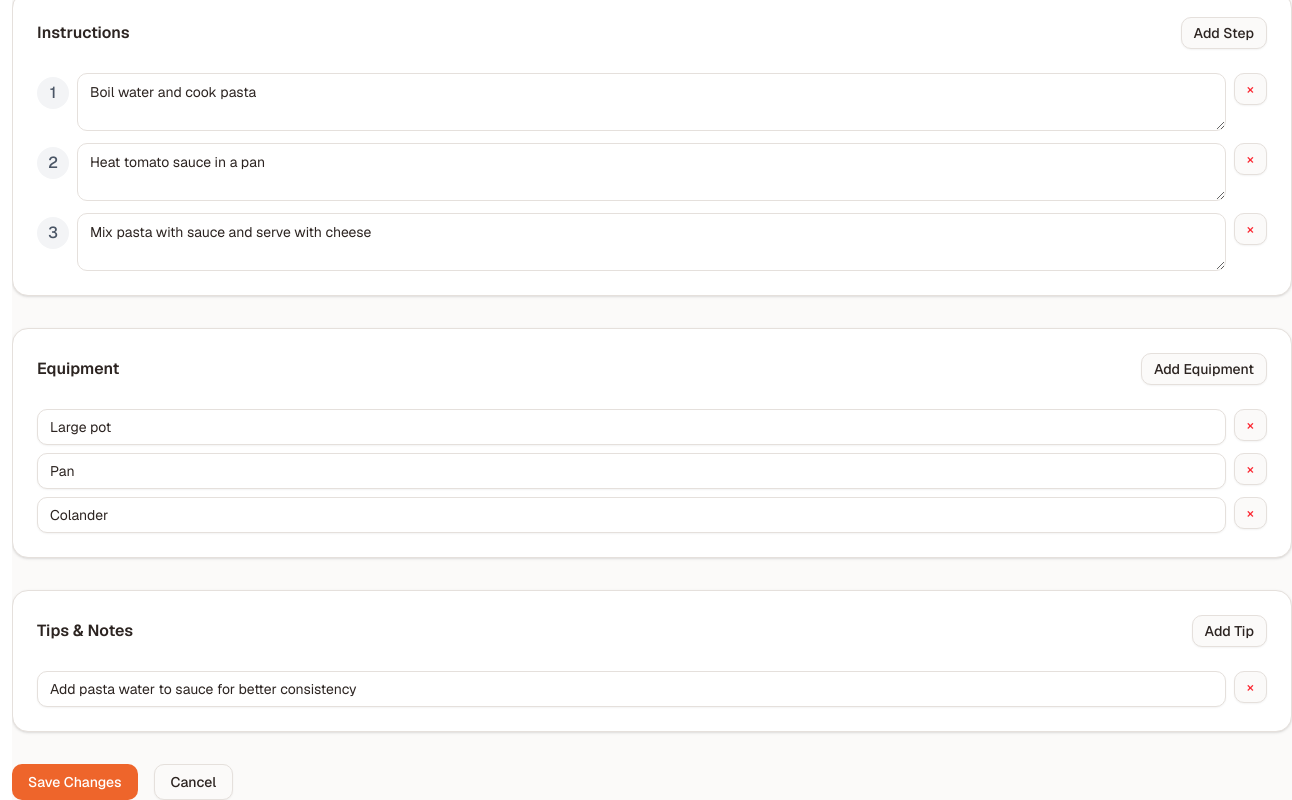
RecipeForm › displays error message on failed save
The width and height of the screenshot is (1292, 800).
(page scrolled)
Click the button "Save Changes" at [75, 782], box x1=12 y1=764 x2=138 y2=799
(page scrolled)
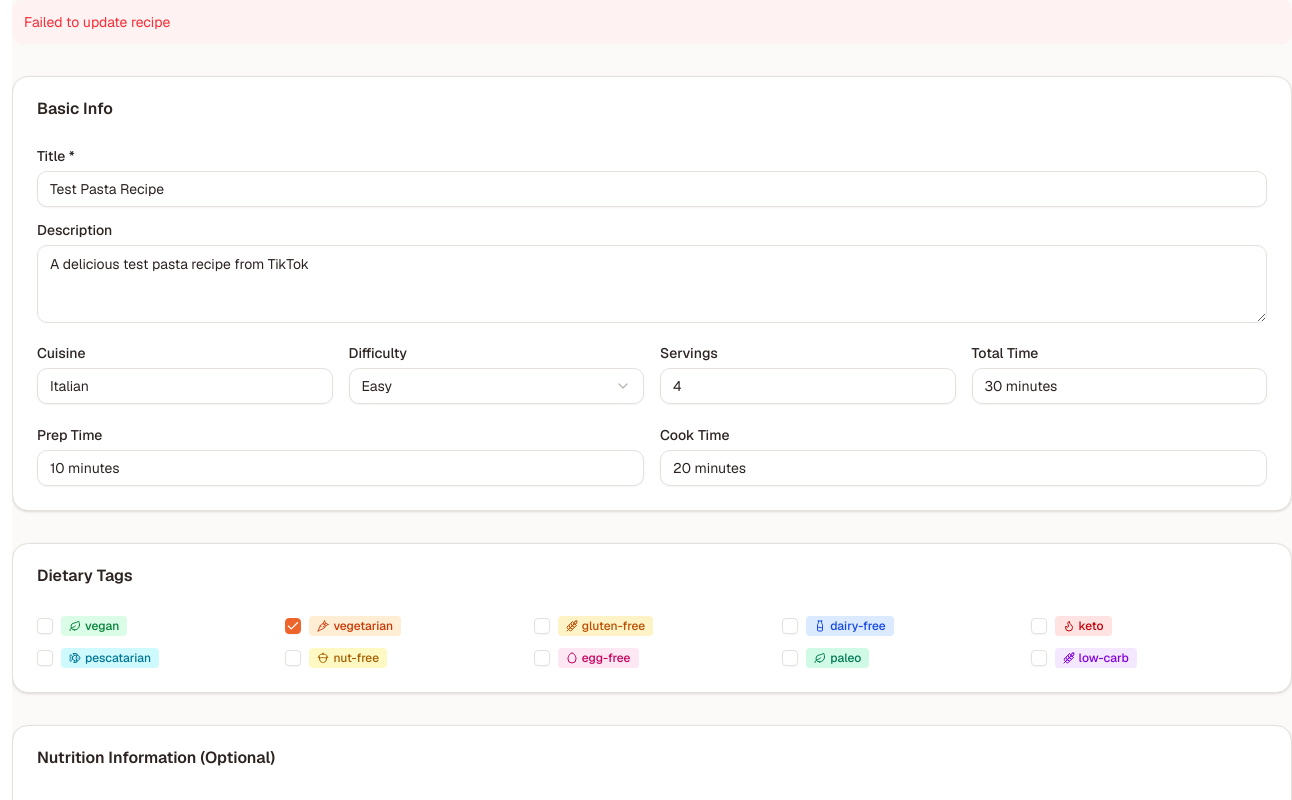
Now the text "Failed to update recipe" is shown, box x1=12 y1=0 x2=1291 y2=44
